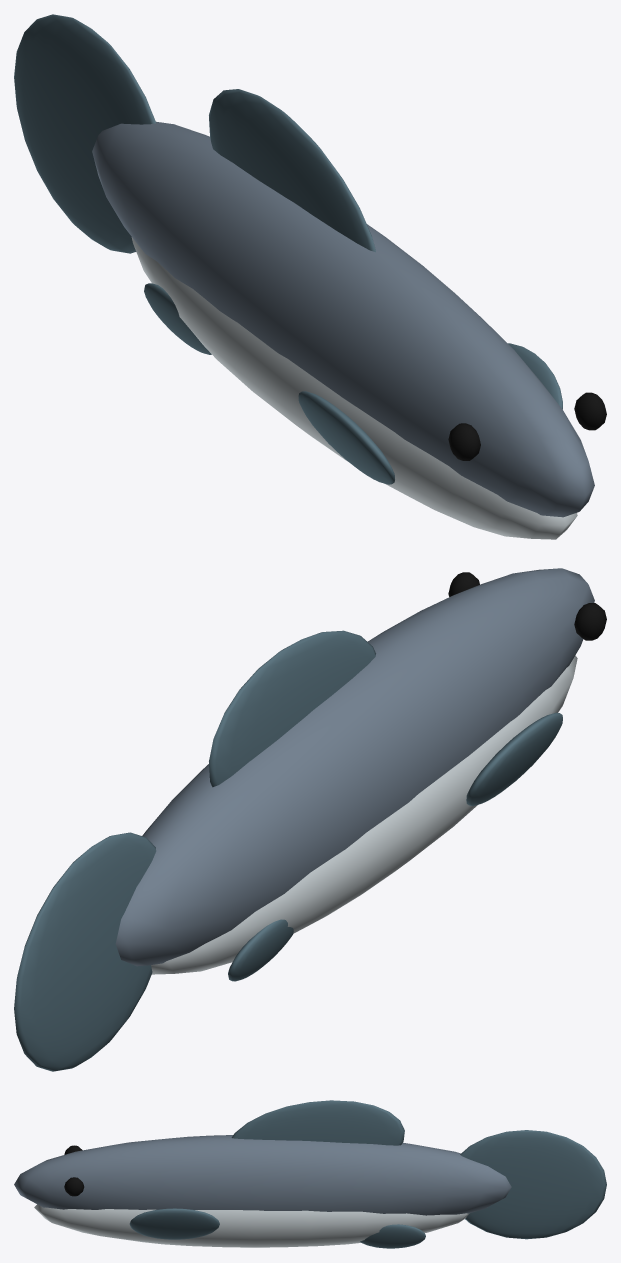
File: sturgeon.glb
3 views of the same model, one above another, from view 1: azimuth 30°, elevation 25°; view 2: azimuth 150°, elevation 25°; view 3: azimuth 270°, elevation 25° (orthographic). The views are drawn at different scales.
Visible parts, largest first — view 1: sturgeon; view 2: sturgeon; view 3: sturgeon.
Boxes of the visible parts, <box> form: sturgeon: <box>14,14,606,539</box>; sturgeon: <box>14,568,606,1071</box>; sturgeon: <box>14,1100,606,1248</box>.
Bounding box in the file's own units: 0.3277 × 0.4094 × 1.53.
